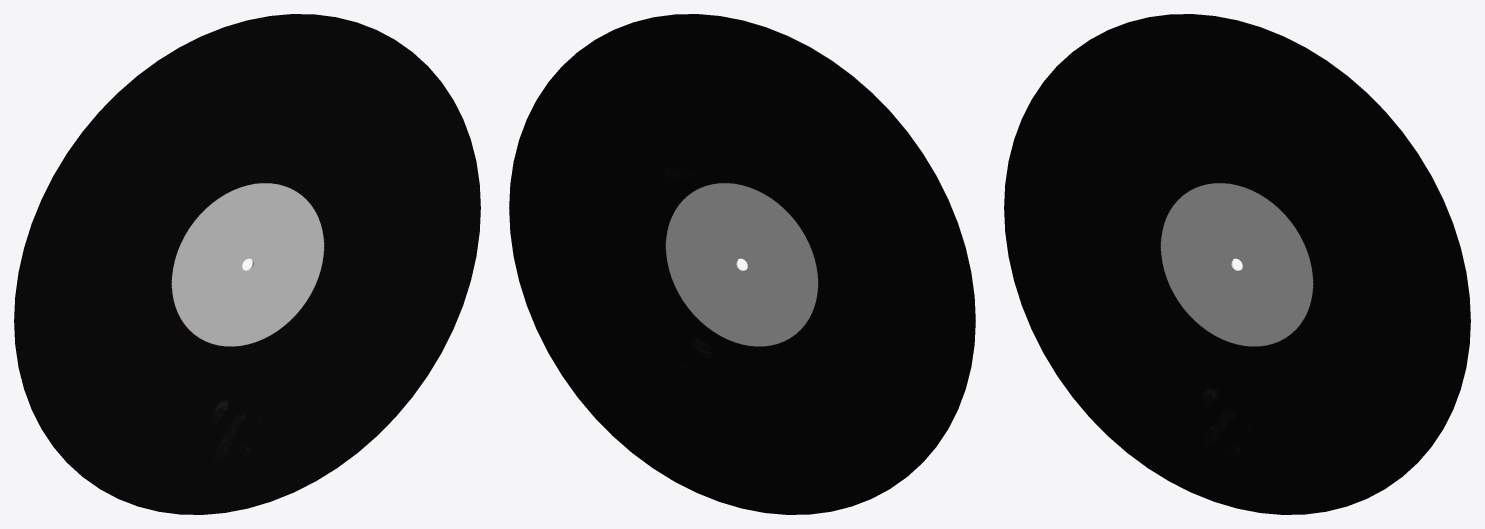
The model's file is 12_vinyl_record_v3.glb.
The picture shows the model from 3 angles, left to right: view 1: azimuth 30°, elevation 25°; view 2: azimuth 150°, elevation 25°; view 3: azimuth 330°, elevation 25°; orthographic projection.
Parts seen in each view (by area): view 1: middle, extern; view 2: middle, extern; view 3: middle, extern.
Part boxes in pixels (box(x1,y1,x2,y2)): middle: box(14, 14, 480, 514); extern: box(172, 183, 323, 346); middle: box(509, 14, 975, 514); extern: box(666, 183, 817, 346); middle: box(1004, 14, 1470, 514); extern: box(1161, 183, 1312, 346).
Bounding box in the file's own units: 0.3 × 0.3 × 0.0012.
2 materials, 1 textured.
